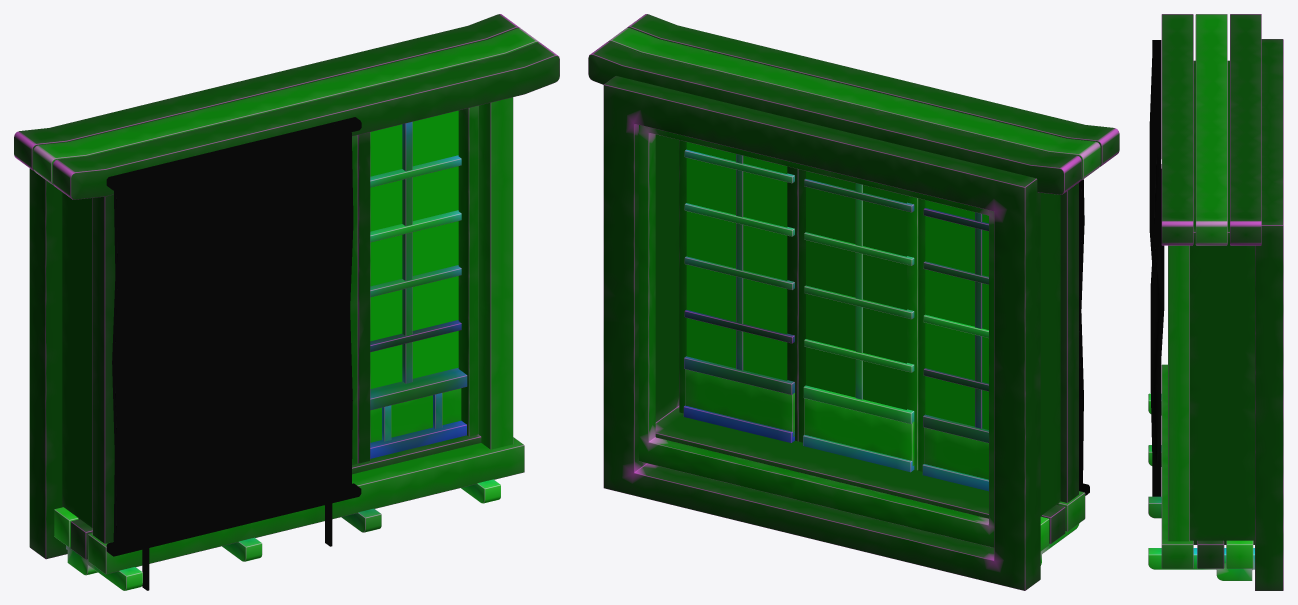
Rendered from window_400x350_08.fbx.
The picture shows the model from 3 angles, left to right: view 1: azimuth 30°, elevation 25°; view 2: azimuth 150°, elevation 25°; view 3: azimuth 270°, elevation 25°; orthographic projection. The views are drawn at different scales.
Parts seen in each view (by area): view 1: window_400x350_08; view 2: window_400x350_08; view 3: window_400x350_08.
Part boxes in pixels (x1=…): window_400x350_08: x1=14, y1=14, x2=559, y2=590; window_400x350_08: x1=588, y1=14, x2=1119, y2=590; window_400x350_08: x1=1148, y1=14, x2=1283, y2=590.
Bounding box in the file's own units: 3.54 × 3.03 × 0.9613.
